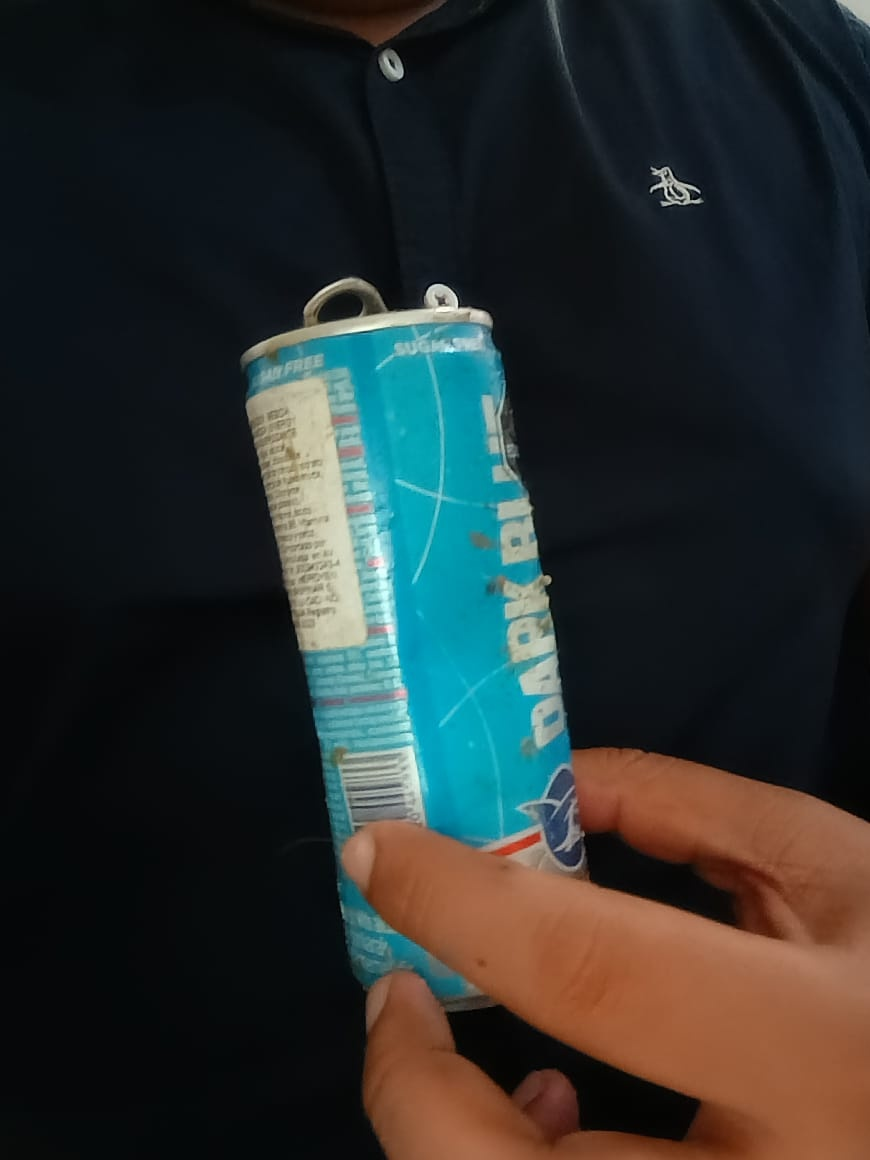Metal: (239, 278, 587, 1011)
